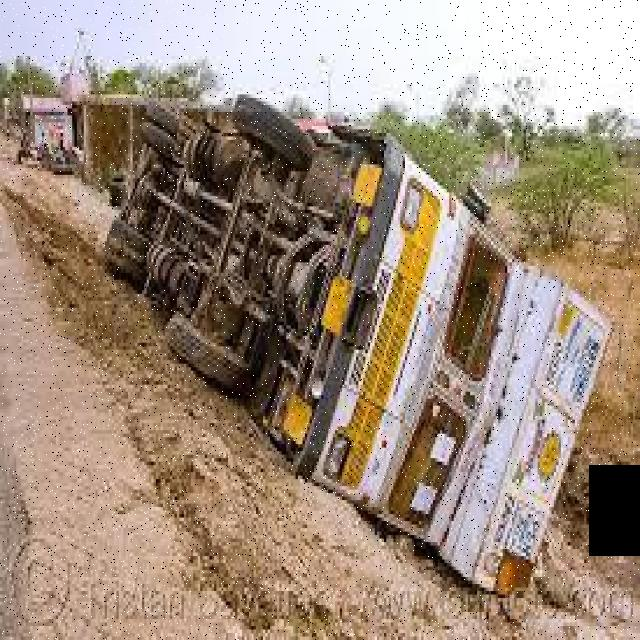severe: (93, 81, 612, 608)
